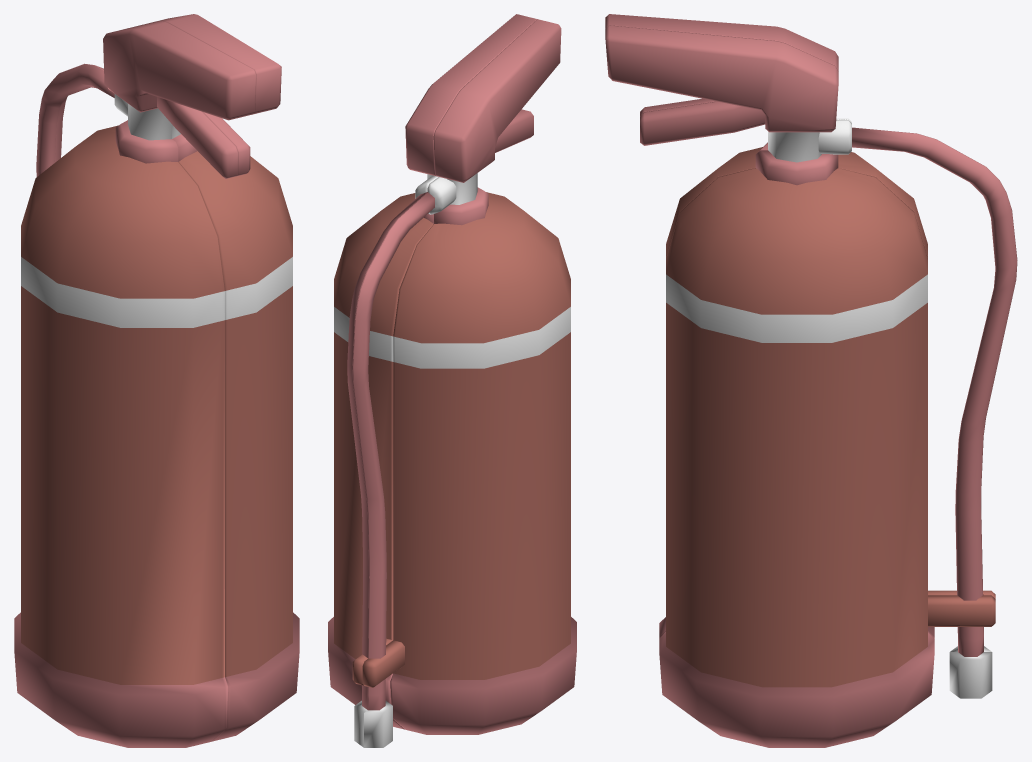
Rendered from SM_Extinguisher_02a.fbx.
3 renders of one model, left to right at view 1: azimuth 30°, elevation 25°; view 2: azimuth 150°, elevation 25°; view 3: azimuth 270°, elevation 25°, orthographic. The views are drawn at different scales.
Visible parts, largest first — view 1: Extinguisher_02, Extinguisher_01; view 2: Extinguisher_02, Extinguisher_01; view 3: Extinguisher_01, Extinguisher_02.
Part boxes in pixels (x1,y1,x2,y2): Extinguisher_02: (14, 21, 256, 747); Extinguisher_01: (54, 14, 299, 741); Extinguisher_02: (352, 19, 576, 747); Extinguisher_01: (328, 14, 536, 747); Extinguisher_01: (605, 25, 1017, 747); Extinguisher_02: (605, 14, 995, 651).
Bounding box in the file's own units: 14.31 × 38.92 × 21.42.
